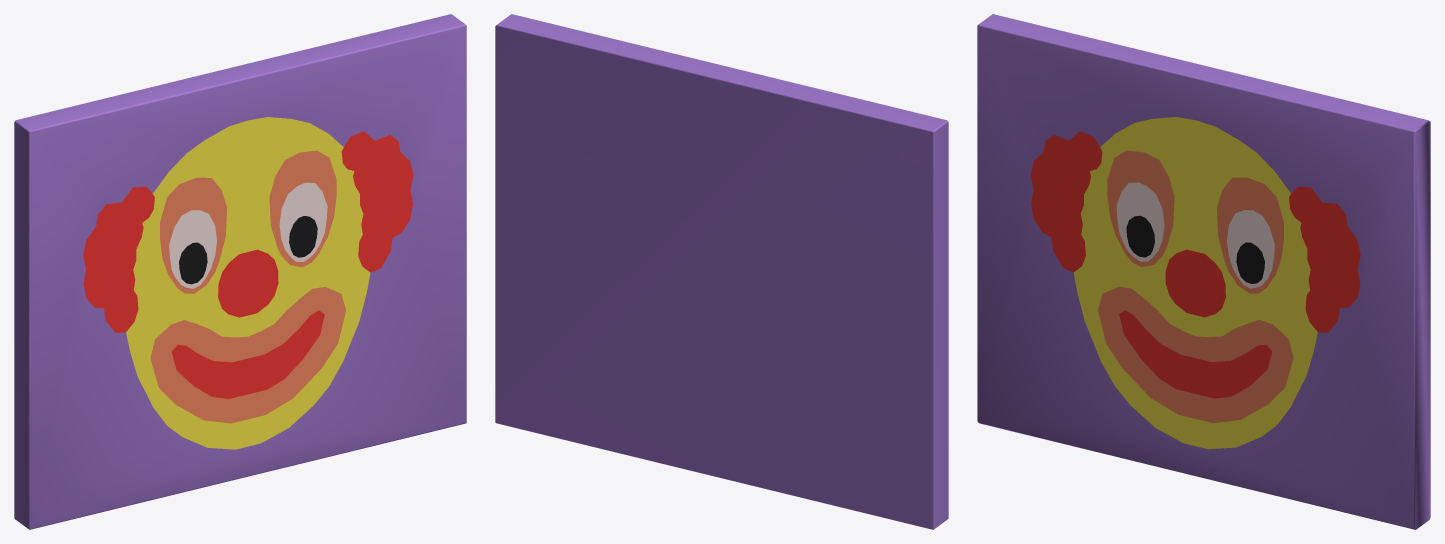
The model's file is Public_14_Poster_circus_1.glb.
3 views of the same model, side by side, from view 1: azimuth 30°, elevation 25°; view 2: azimuth 150°, elevation 25°; view 3: azimuth 330°, elevation 25° (orthographic).
Visible parts, largest first — view 1: Public_14_Poster_circus_1; view 2: Public_14_Poster_circus_1; view 3: Public_14_Poster_circus_1.
Part boxes in pixels (<box>): Public_14_Poster_circus_1: <box>14,14,466,529</box>; Public_14_Poster_circus_1: <box>495,14,948,529</box>; Public_14_Poster_circus_1: <box>977,14,1430,529</box>.
Size of the model in its own units: 0.939 by 0.8174 by 0.0579.
Materials: 1 (1 with a texture image).
